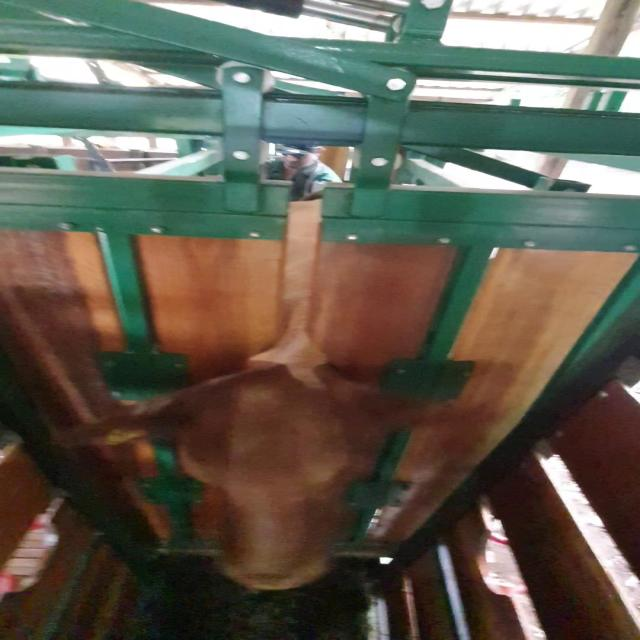cowFace: (178, 371, 350, 591)
